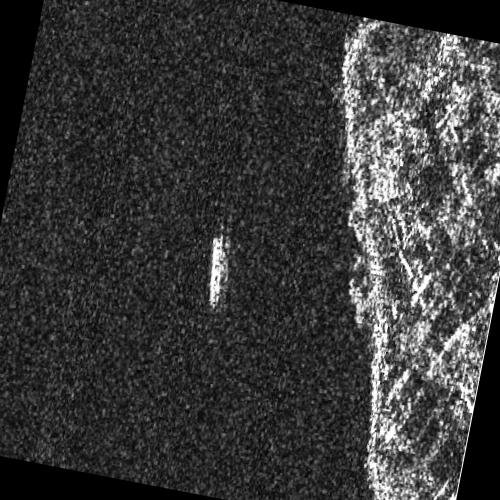ship: (208, 236, 224, 310)
